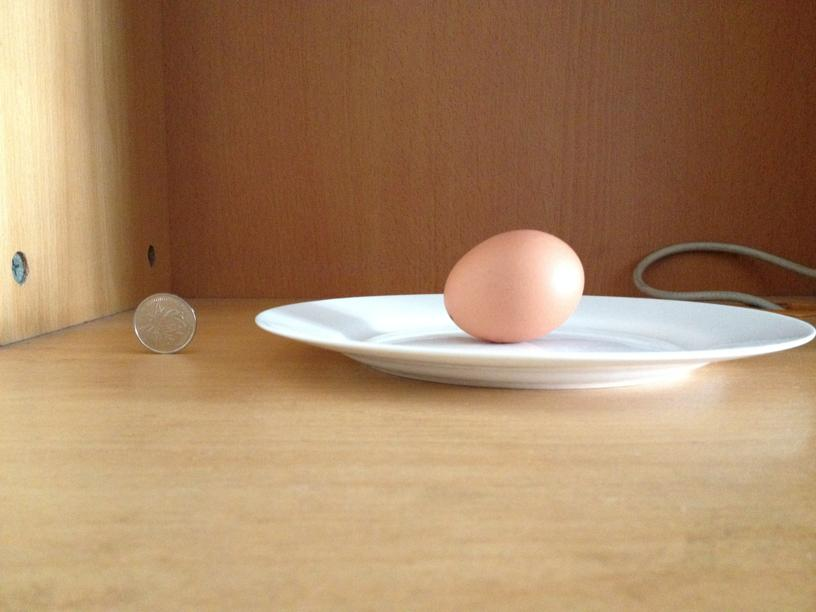coin: (131, 290, 198, 353)
egg: (439, 226, 583, 342)
